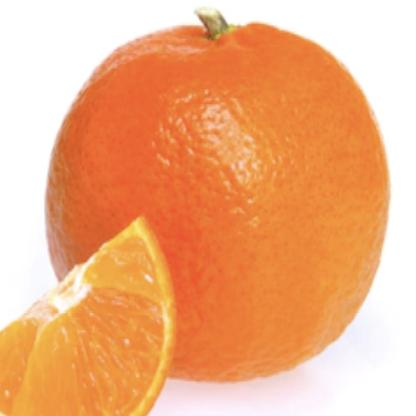fresh: (45, 9, 389, 382)
